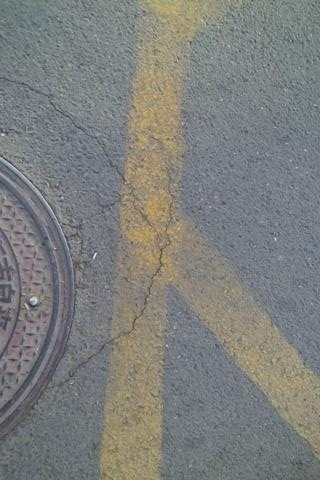A: (62, 170, 185, 395), (2, 64, 145, 209)
